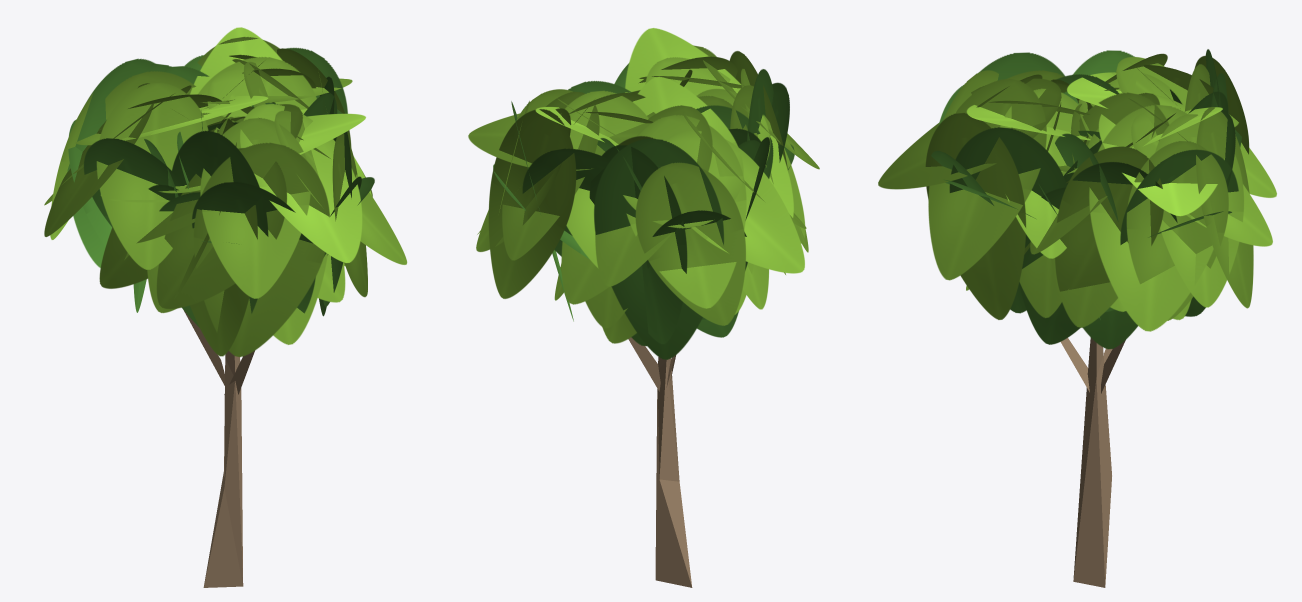
Rendered from tree_round_lod2.glb.
3 views of the same model, side by side, from view 1: azimuth 30°, elevation 25°; view 2: azimuth 150°, elevation 25°; view 3: azimuth 270°, elevation 25° (orthographic). The views are drawn at different scales.
Parts seen in each view (by area): view 1: foliage, trunk; view 2: foliage, trunk; view 3: foliage, trunk.
Part boxes in pixels (x1,y1,x2,y2): foliage: [44, 27, 407, 357]; trunk: [184, 311, 254, 587]; foliage: [468, 28, 819, 359]; trunk: [628, 337, 692, 587]; foliage: [878, 49, 1276, 349]; trunk: [1060, 337, 1125, 587].
Bounding box in the file's own units: 4.33 × 6.17 × 4.52.
3 materials, 2 textured.
